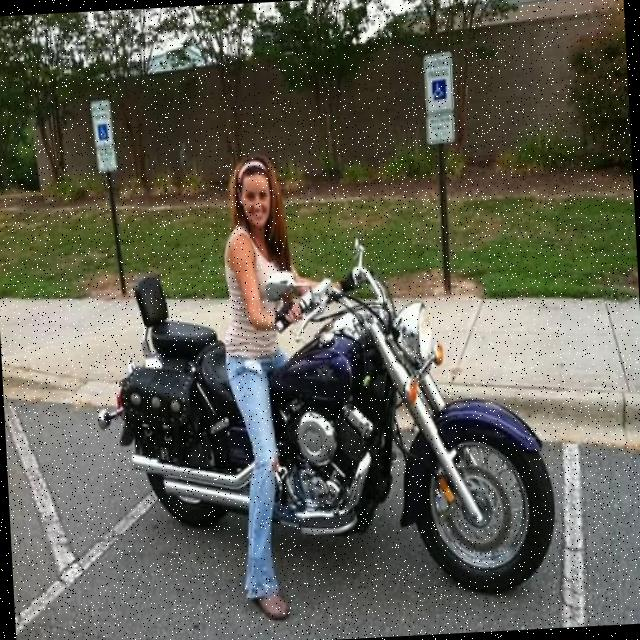No helmet: (212, 152, 297, 263)
